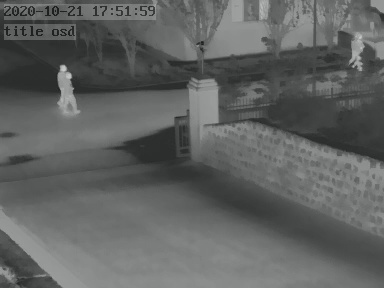person: (56, 62, 78, 113), (349, 30, 366, 68)
